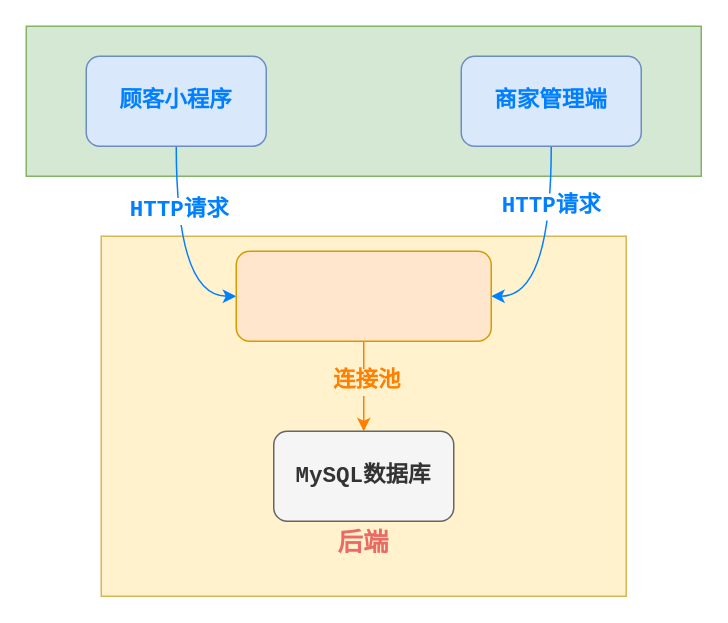
Image size: 728x623. Some labels were removed from this diagram. The shapes that lost their labels are listed below. From the top down, each one's box as (x1, y1, x2, y2) in pixels, then its label:
(25, 25, 701, 176): 前端
(235, 250, 491, 341): Node.js + Express REST API
